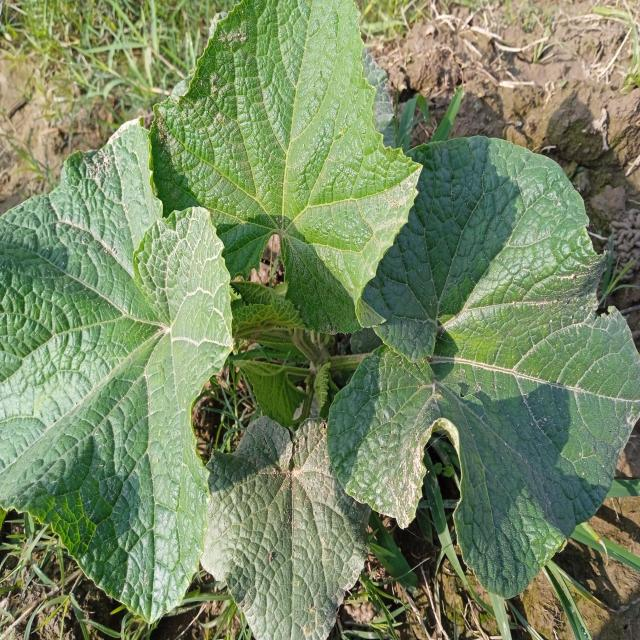cucumber_healthy: (326, 98, 640, 601), (0, 115, 236, 631), (148, 2, 426, 338), (202, 401, 369, 640)
